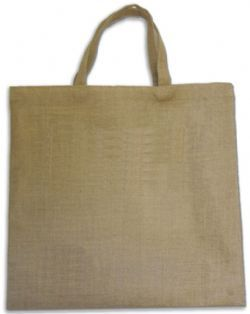jutebag: (6, 3, 246, 311)
